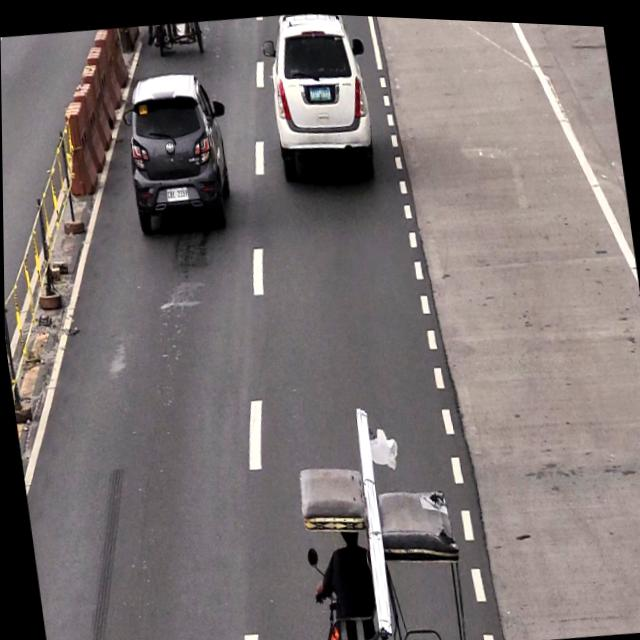Car: (117, 61, 238, 243), (264, 9, 373, 181)
License-Plate: (306, 80, 334, 101), (163, 183, 189, 203)
Tricycle: (294, 445, 466, 640)
